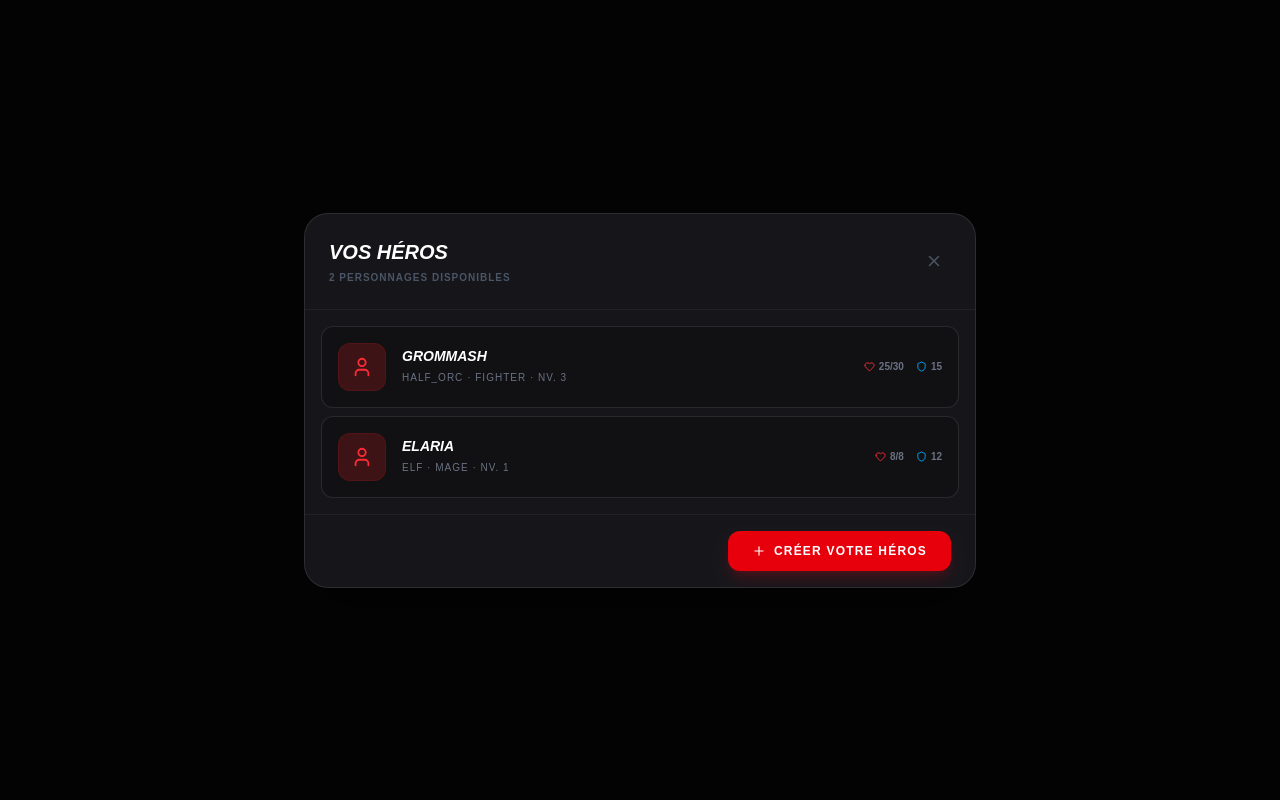
CharacterSelectModal › affiche une erreur si la sélection échoue et ne ferme pas
Click the text "Elaria": {"x": 428, "y": 446} [402,438,454,454]
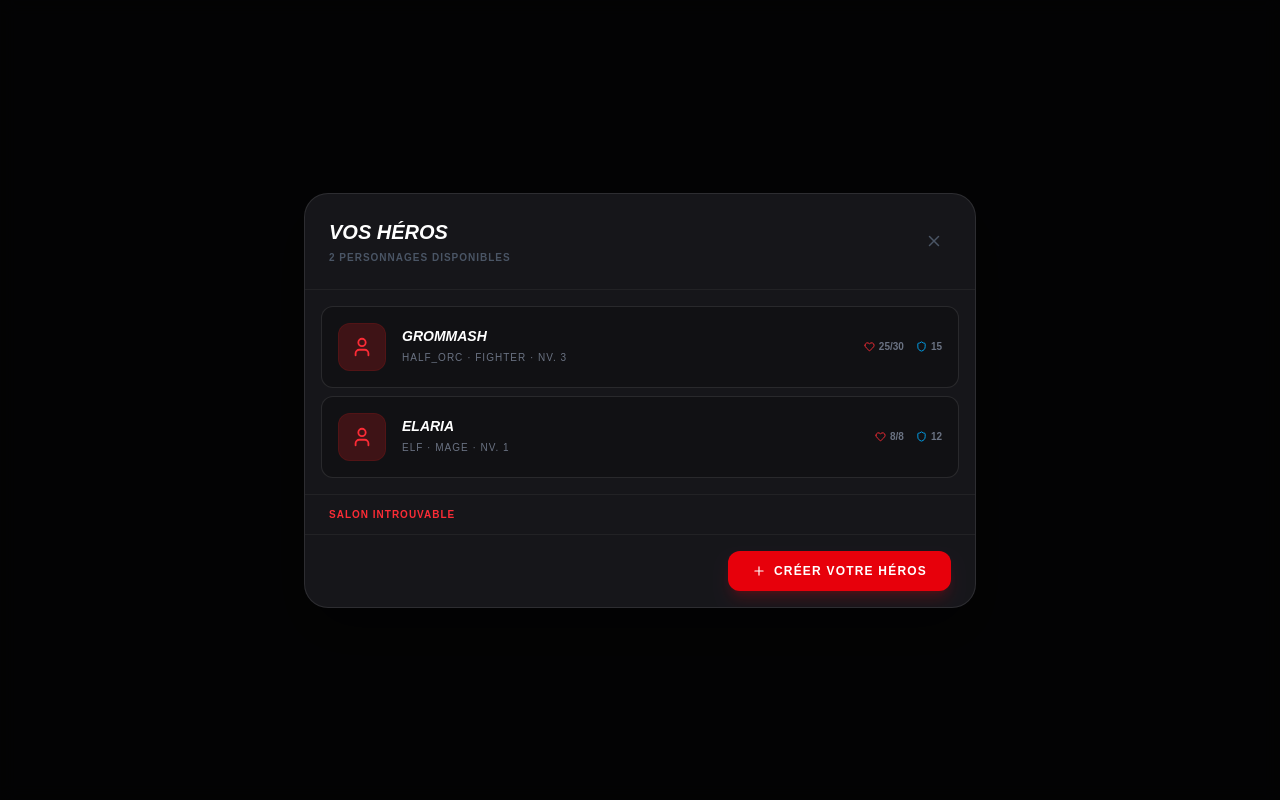
Check: the text "Salon introuvable" is shown, box [329,508,455,520]
